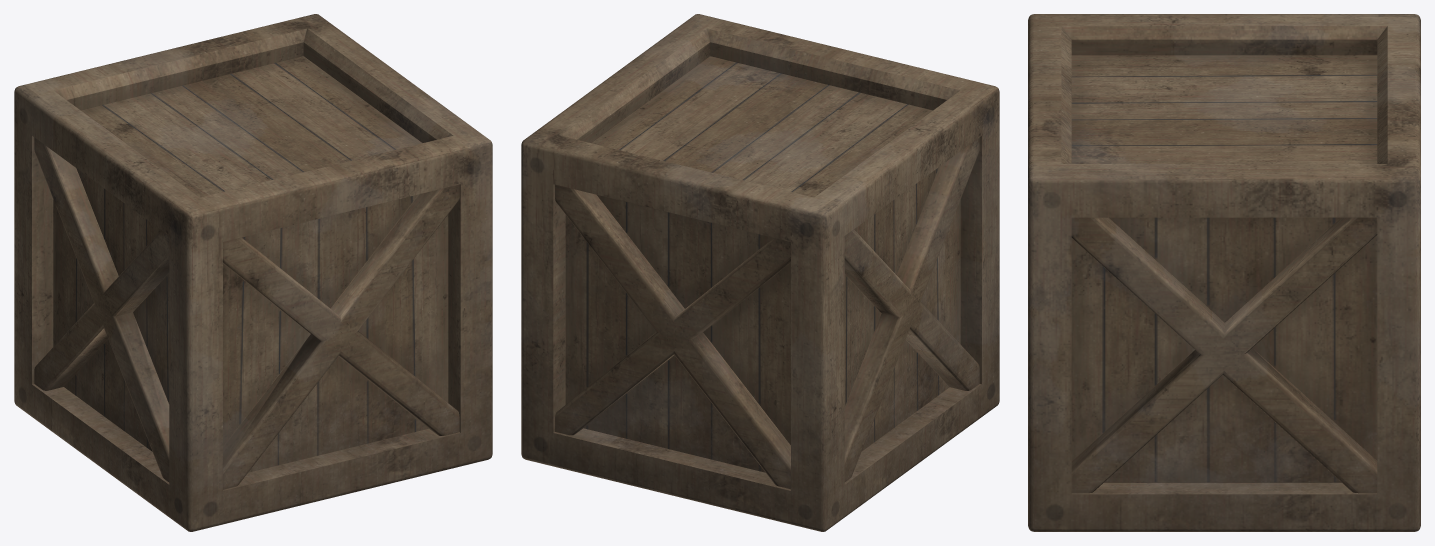
Rendered from crate.glb.
The picture shows the model from 3 angles, left to right: view 1: azimuth 30°, elevation 25°; view 2: azimuth 150°, elevation 25°; view 3: azimuth 270°, elevation 25°; orthographic projection. The views are drawn at different scales.
Parts seen in each view (by area): view 1: crate; view 2: crate; view 3: crate.
Part boxes in pixels (x1=…): crate: x1=14, y1=14, x2=492, y2=531; crate: x1=521, y1=14, x2=999, y2=531; crate: x1=1028, y1=14, x2=1420, y2=531.
Bounding box in the file's own units: 2 × 2 × 2.
Materials: 1 (1 with a texture image).
